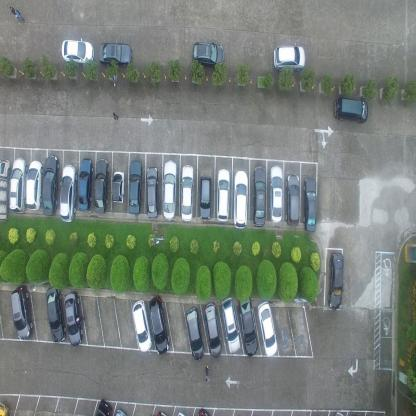car: (45, 284, 67, 342), (10, 285, 33, 340), (238, 295, 258, 358), (149, 294, 169, 355), (257, 299, 278, 357), (221, 296, 241, 355), (8, 157, 28, 214), (42, 154, 60, 217), (131, 298, 151, 354), (64, 290, 84, 346), (60, 162, 78, 223), (185, 306, 204, 361), (204, 301, 222, 359), (333, 94, 369, 123), (328, 251, 344, 311), (61, 37, 94, 66), (99, 40, 132, 69), (163, 158, 178, 221), (252, 164, 267, 226), (233, 169, 248, 229), (273, 44, 305, 72), (78, 157, 94, 212), (94, 157, 109, 215), (303, 176, 318, 234), (192, 41, 224, 68), (269, 164, 283, 224), (26, 159, 42, 211), (216, 166, 230, 223), (286, 172, 300, 228), (146, 165, 160, 219), (181, 165, 194, 222), (0, 157, 11, 224), (129, 160, 142, 216), (199, 173, 212, 220), (111, 170, 126, 204), (96, 398, 113, 416)
